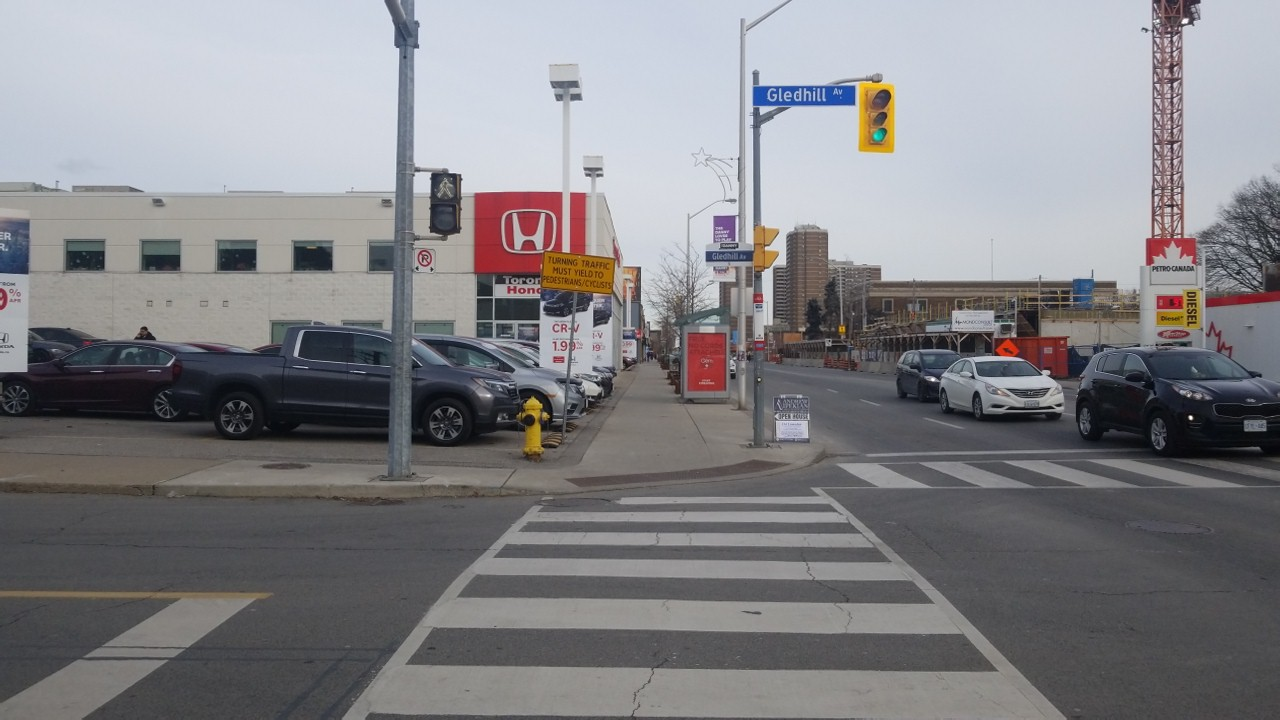light: (426, 163, 469, 239)
